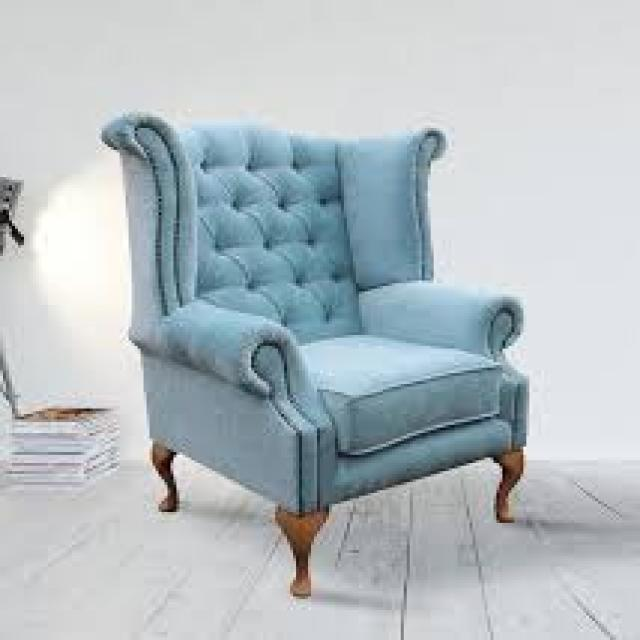chair: (54, 58, 569, 618)
